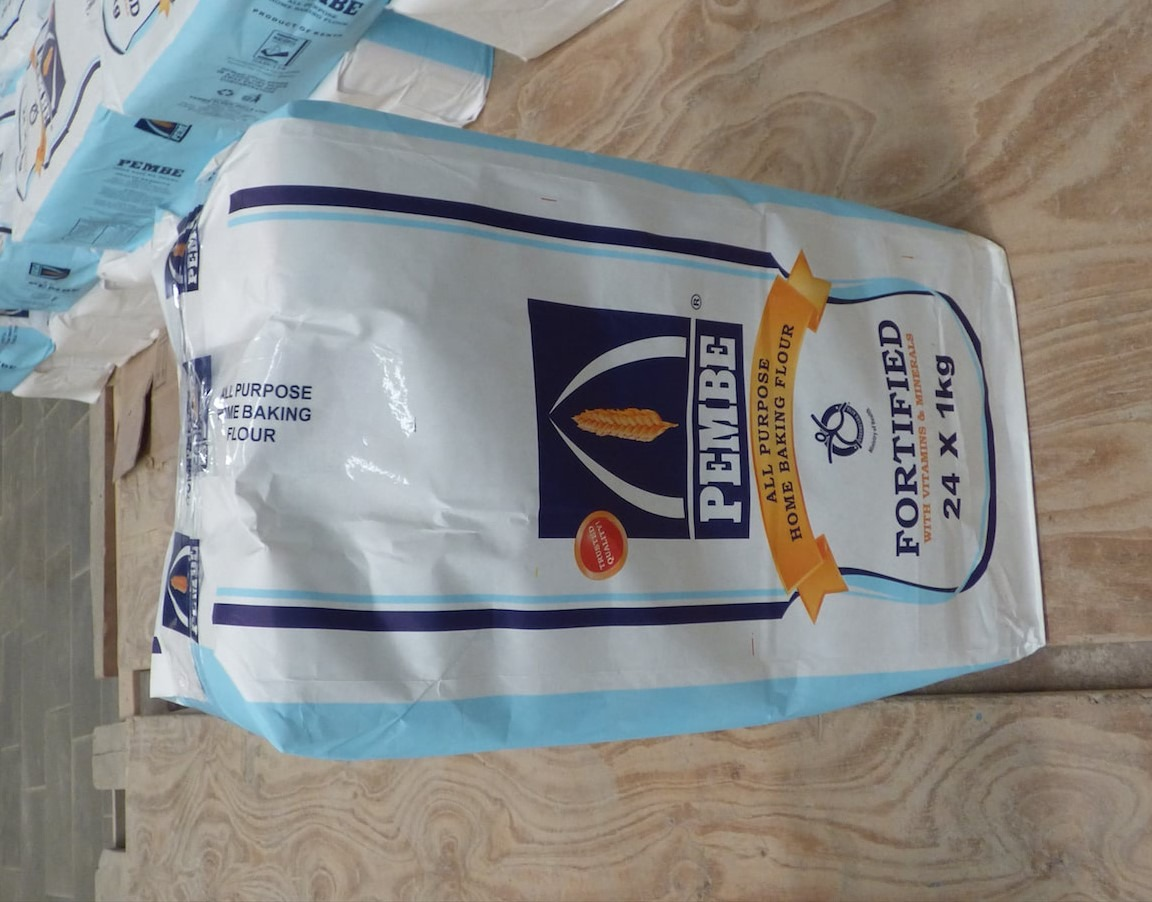wheat_flour_blue_label: (175, 83, 1049, 756)
